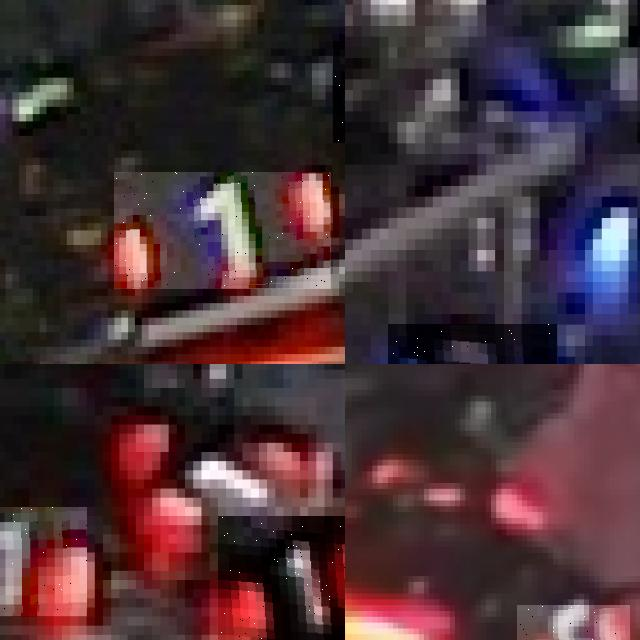B3: (388, 324, 557, 364)
R1: (115, 172, 332, 289), (128, 424, 324, 544), (218, 515, 345, 640), (0, 506, 86, 616)
R5: (516, 605, 630, 640)
